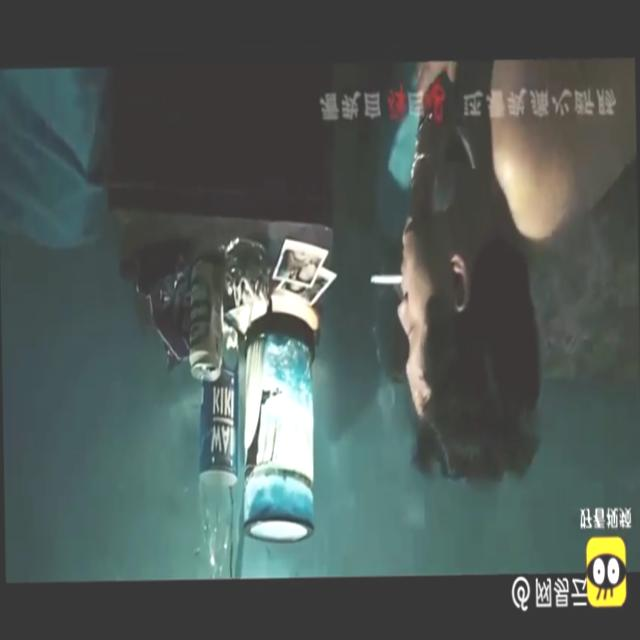smoke: (366, 269, 406, 290)
